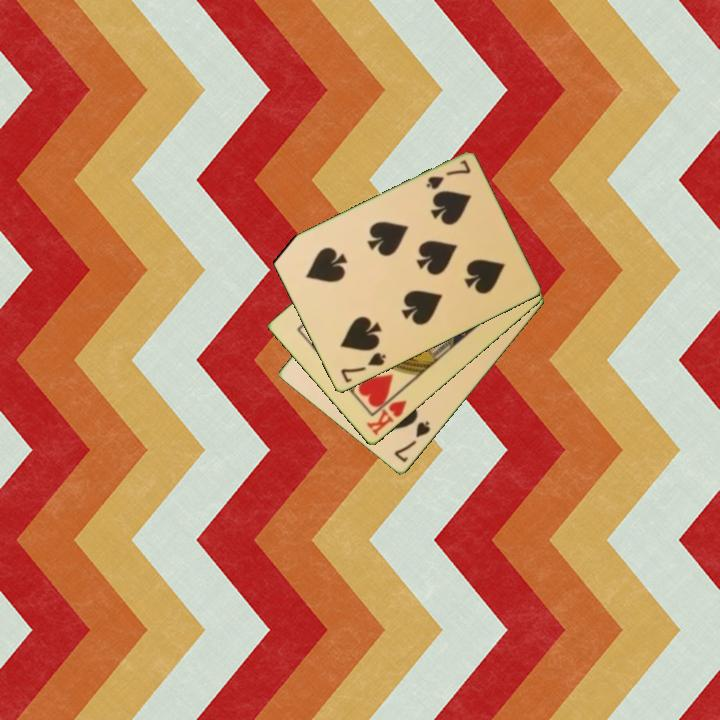7s: (391, 418, 433, 466), (337, 349, 389, 386), (422, 156, 474, 193)
Kh: (363, 388, 410, 439)
